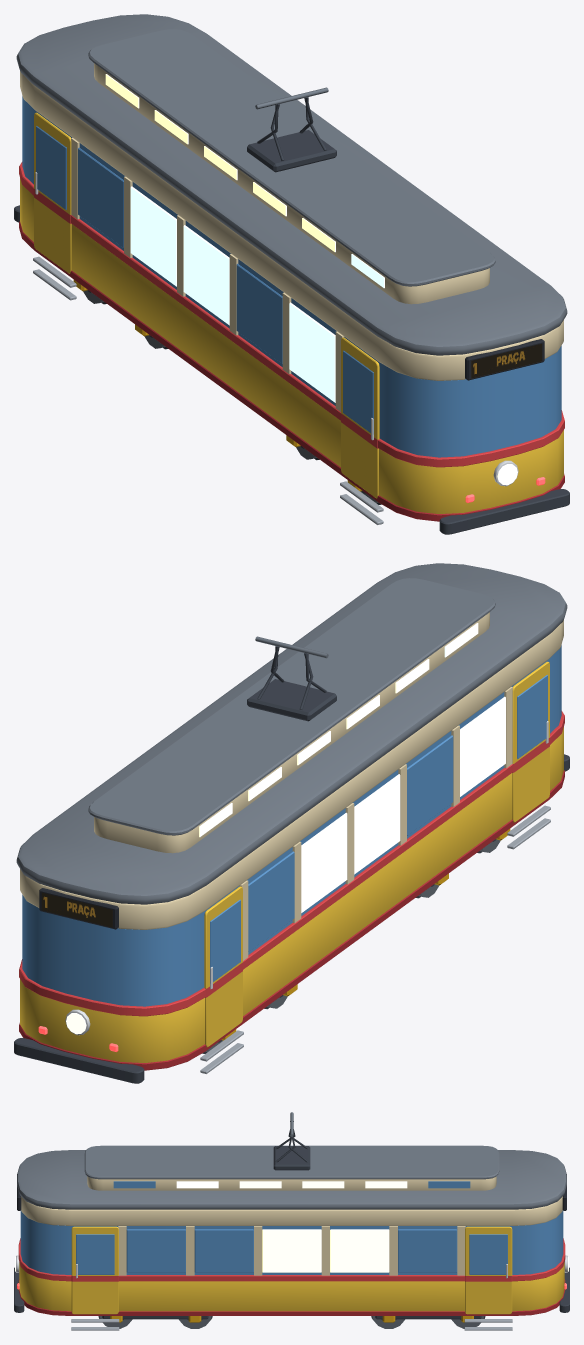
The model's file is bonde.glb.
3 renders of one model, top to bottom at view 1: azimuth 30°, elevation 25°; view 2: azimuth 150°, elevation 25°; view 3: azimuth 270°, elevation 25°, orthographic. The views are drawn at different scales.
Parts seen in each view (by area): view 1: bonde, porta_correr_1, porta_correr_2; view 2: bonde, porta_correr_2, porta_correr_1; view 3: bonde, porta_correr_3, porta_correr_4.
Boxes of the visible parts, box(x1,y1,x2,y2) form: bonde: box(14, 14, 569, 534); porta_correr_1: box(341, 337, 379, 498); porta_correr_2: box(34, 112, 71, 273); bonde: box(14, 563, 569, 1083); porta_correr_2: box(204, 886, 242, 1047); porta_correr_1: box(512, 661, 549, 822); bonde: box(14, 1112, 569, 1330); porta_correr_3: box(71, 1226, 118, 1314); porta_correr_4: box(465, 1226, 512, 1314).
Size of the model in its own units: 2.49 by 3.94 by 10.6.
7 materials, 2 textured.
